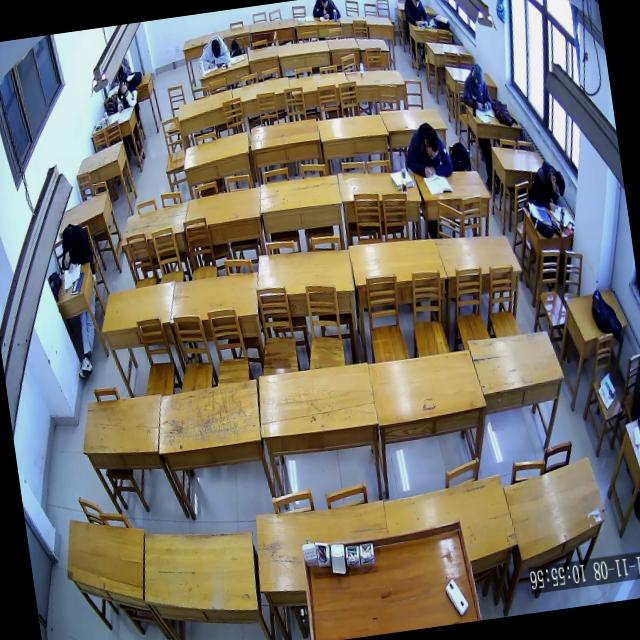bow: (400, 118, 454, 184), (193, 32, 232, 72), (309, 0, 341, 22)
down: (422, 124, 442, 162), (548, 168, 568, 202), (58, 224, 78, 256), (208, 36, 224, 60), (116, 75, 130, 96), (409, 0, 422, 10), (319, 0, 329, 9)
sit: (524, 156, 570, 218), (56, 218, 96, 276), (458, 60, 494, 114), (112, 73, 140, 113), (401, 0, 432, 32)
